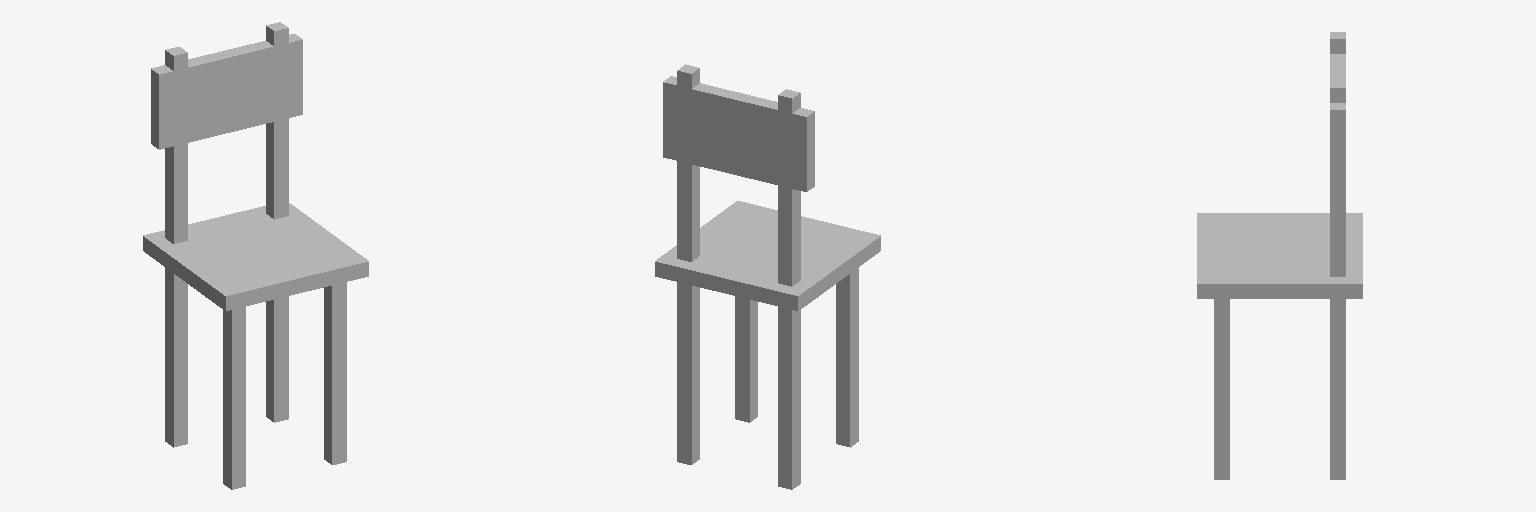
File: chair_collider.obj
3 renders of one model, left to right at view 1: azimuth 30°, elevation 25°; view 2: azimuth 150°, elevation 25°; view 3: azimuth 270°, elevation 25°, orthographic.
Visible parts, largest first — view 1: Cube.001_Cube.002, Cube.003_Cube, Cube.002_Cube.006, Cube_Cube.006, Cube.005_Cube.006, Cube.004_Cube.006; view 2: Cube.001_Cube.002, Cube.003_Cube, Cube.002_Cube.006, Cube_Cube.006, Cube.004_Cube.006, Cube.005_Cube.006; view 3: Cube.001_Cube.002, Cube_Cube.006, Cube.005_Cube.006, Cube.003_Cube.
Part boxes in pixels (x1,y1,x2,y2): Cube.001_Cube.002: (143, 203, 368, 310); Cube.003_Cube: (151, 34, 302, 149); Cube.002_Cube.006: (165, 47, 187, 447); Cube_Cube.006: (266, 22, 288, 422); Cube.005_Cube.006: (324, 282, 346, 464); Cube.004_Cube.006: (223, 307, 245, 489); Cube.001_Cube.002: (655, 201, 880, 310); Cube.003_Cube: (663, 76, 814, 191); Cube.002_Cube.006: (778, 89, 800, 489); Cube_Cube.006: (677, 64, 699, 464); Cube.004_Cube.006: (836, 267, 858, 447); Cube.005_Cube.006: (735, 296, 757, 422); Cube.001_Cube.002: (1197, 213, 1362, 298); Cube_Cube.006: (1330, 81, 1345, 479); Cube.005_Cube.006: (1214, 299, 1229, 479); Cube.003_Cube: (1330, 54, 1345, 185).
Size of the model in its own units: 1 by 2.6 by 1.